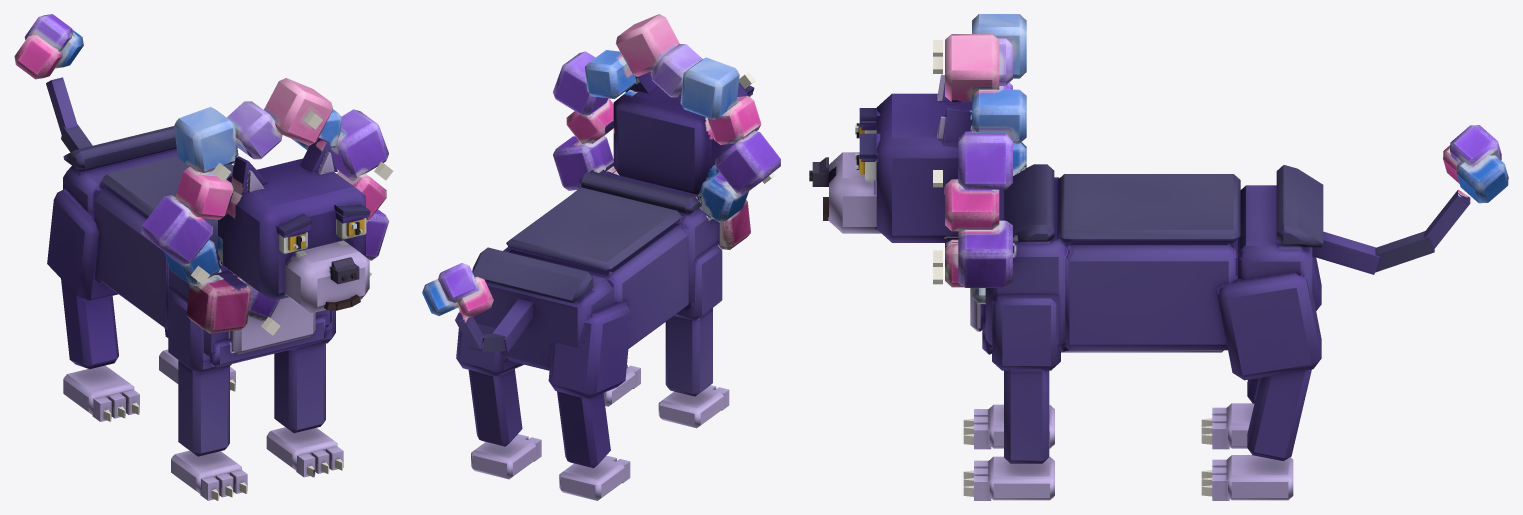
The model's file is LionNebuleuse_Rig.fbx.
3 renders of one model, left to right at view 1: azimuth 30°, elevation 25°; view 2: azimuth 150°, elevation 25°; view 3: azimuth 270°, elevation 25°, orthographic. The views are drawn at different scales.
Parts seen in each view (by area): view 1: Head, Body, LegBR, LegFR, LegFL, Tail, LegBL; view 2: Head, Body, LegBR, LegFR, LegBL, Tail, LegFL; view 3: Body, Head, LegBL, LegFL, Tail, LegBR, LegFR.
Part boxes in pixels (x1=…): Head: x1=141, y1=78, x2=393, y2=335; Body: x1=63, y1=126, x2=331, y2=367; LegBR: x1=47, y1=189, x2=139, y2=421; LegFR: x1=168, y1=292, x2=247, y2=500; LegFL: x1=266, y1=310, x2=343, y2=477; Tail: x1=14, y1=14, x2=92, y2=152; LegBL: x1=159, y1=328, x2=235, y2=391; Head: x1=553, y1=14, x2=780, y2=249; Body: x1=472, y1=171, x2=719, y2=370; LegBR: x1=548, y1=302, x2=631, y2=500; LegFR: x1=658, y1=245, x2=729, y2=428; LegBL: x1=456, y1=316, x2=541, y2=479; Tail: x1=422, y1=263, x2=533, y2=352; LegFL: x1=603, y1=364, x2=640, y2=406; Body: x1=970, y1=164, x2=1323, y2=354; Head: x1=809, y1=14, x2=1026, y2=304; LegBL: x1=1201, y1=272, x2=1321, y2=500; LegFL: x1=963, y1=298, x2=1060, y2=500; Tail: x1=1312, y1=125, x2=1508, y2=274; LegBR: x1=1201, y1=256, x2=1321, y2=449; LegFR: x1=963, y1=404, x2=1054, y2=449.
Size of the model in its own units: 3.63 by 6 by 8.67.
Materials: 1 (1 with a texture image).
